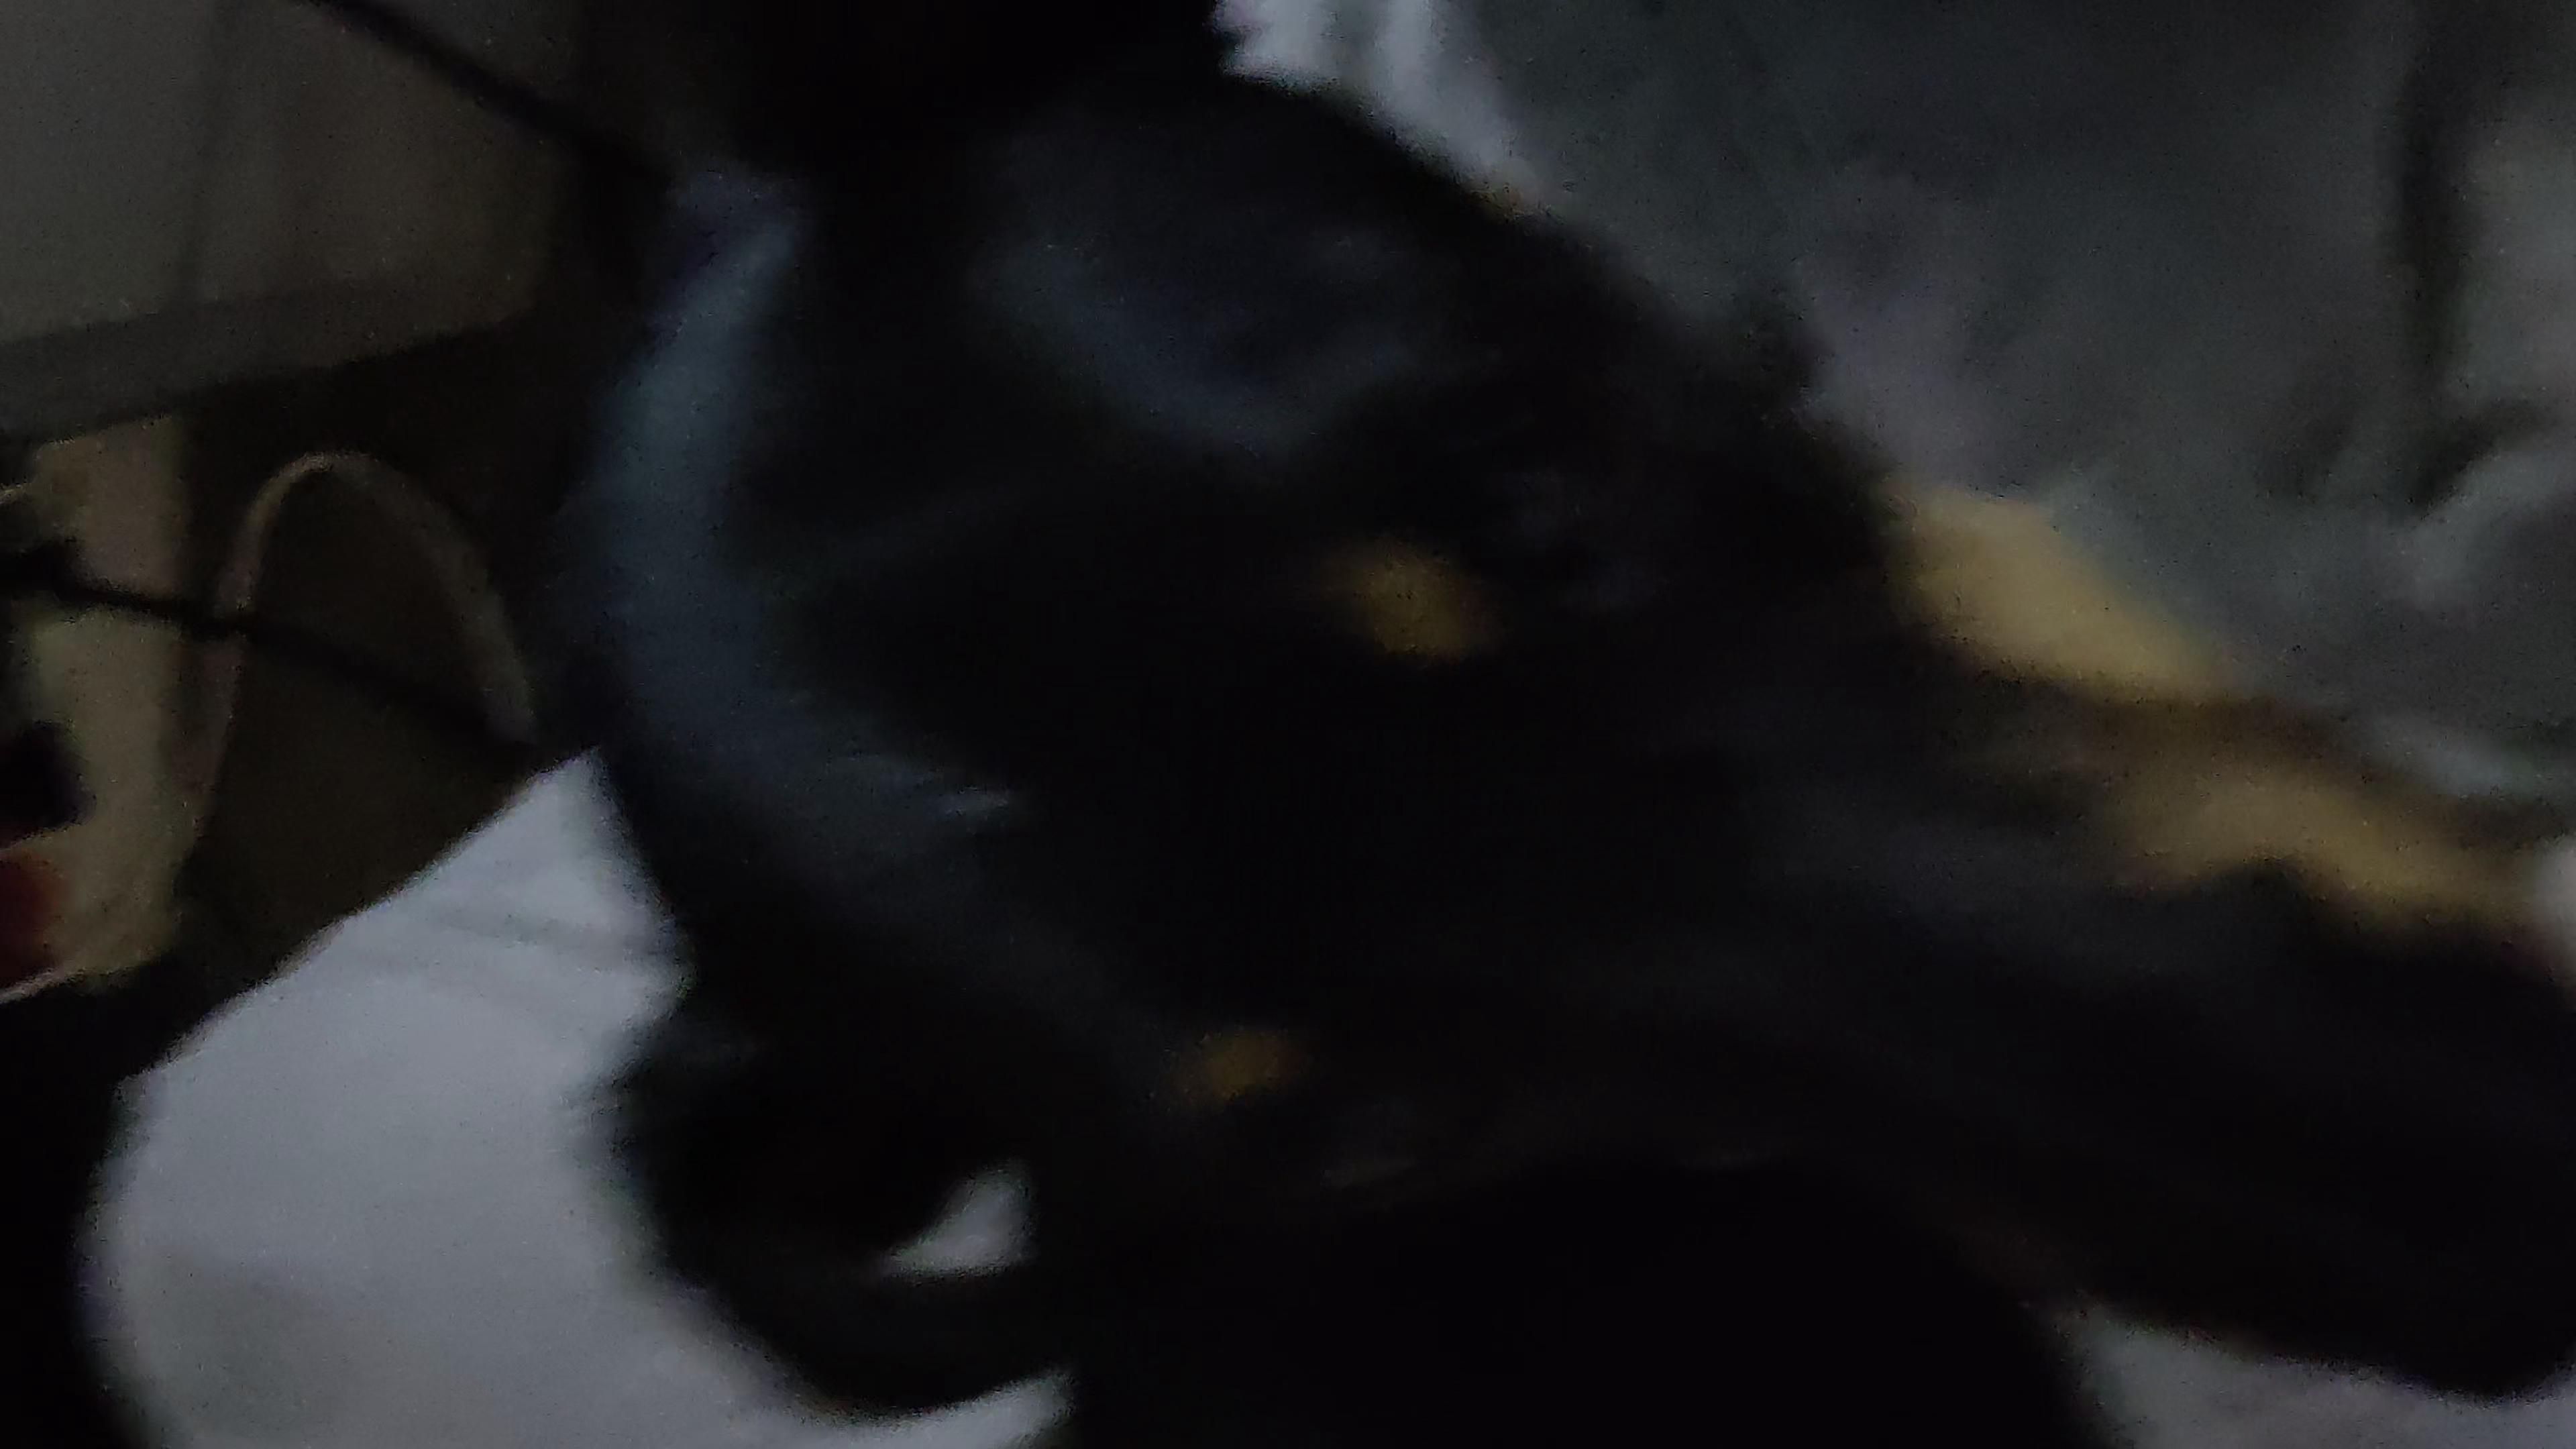Dog: (407, 0, 2576, 1431)
